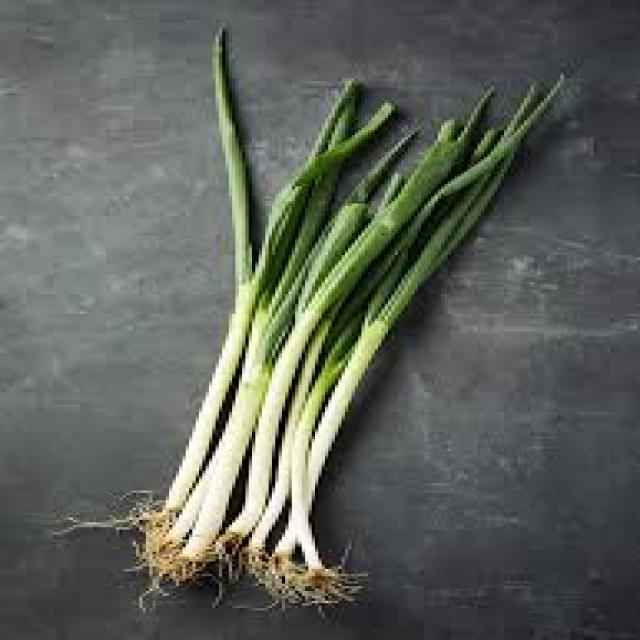spring_onion: (133, 32, 567, 608)
